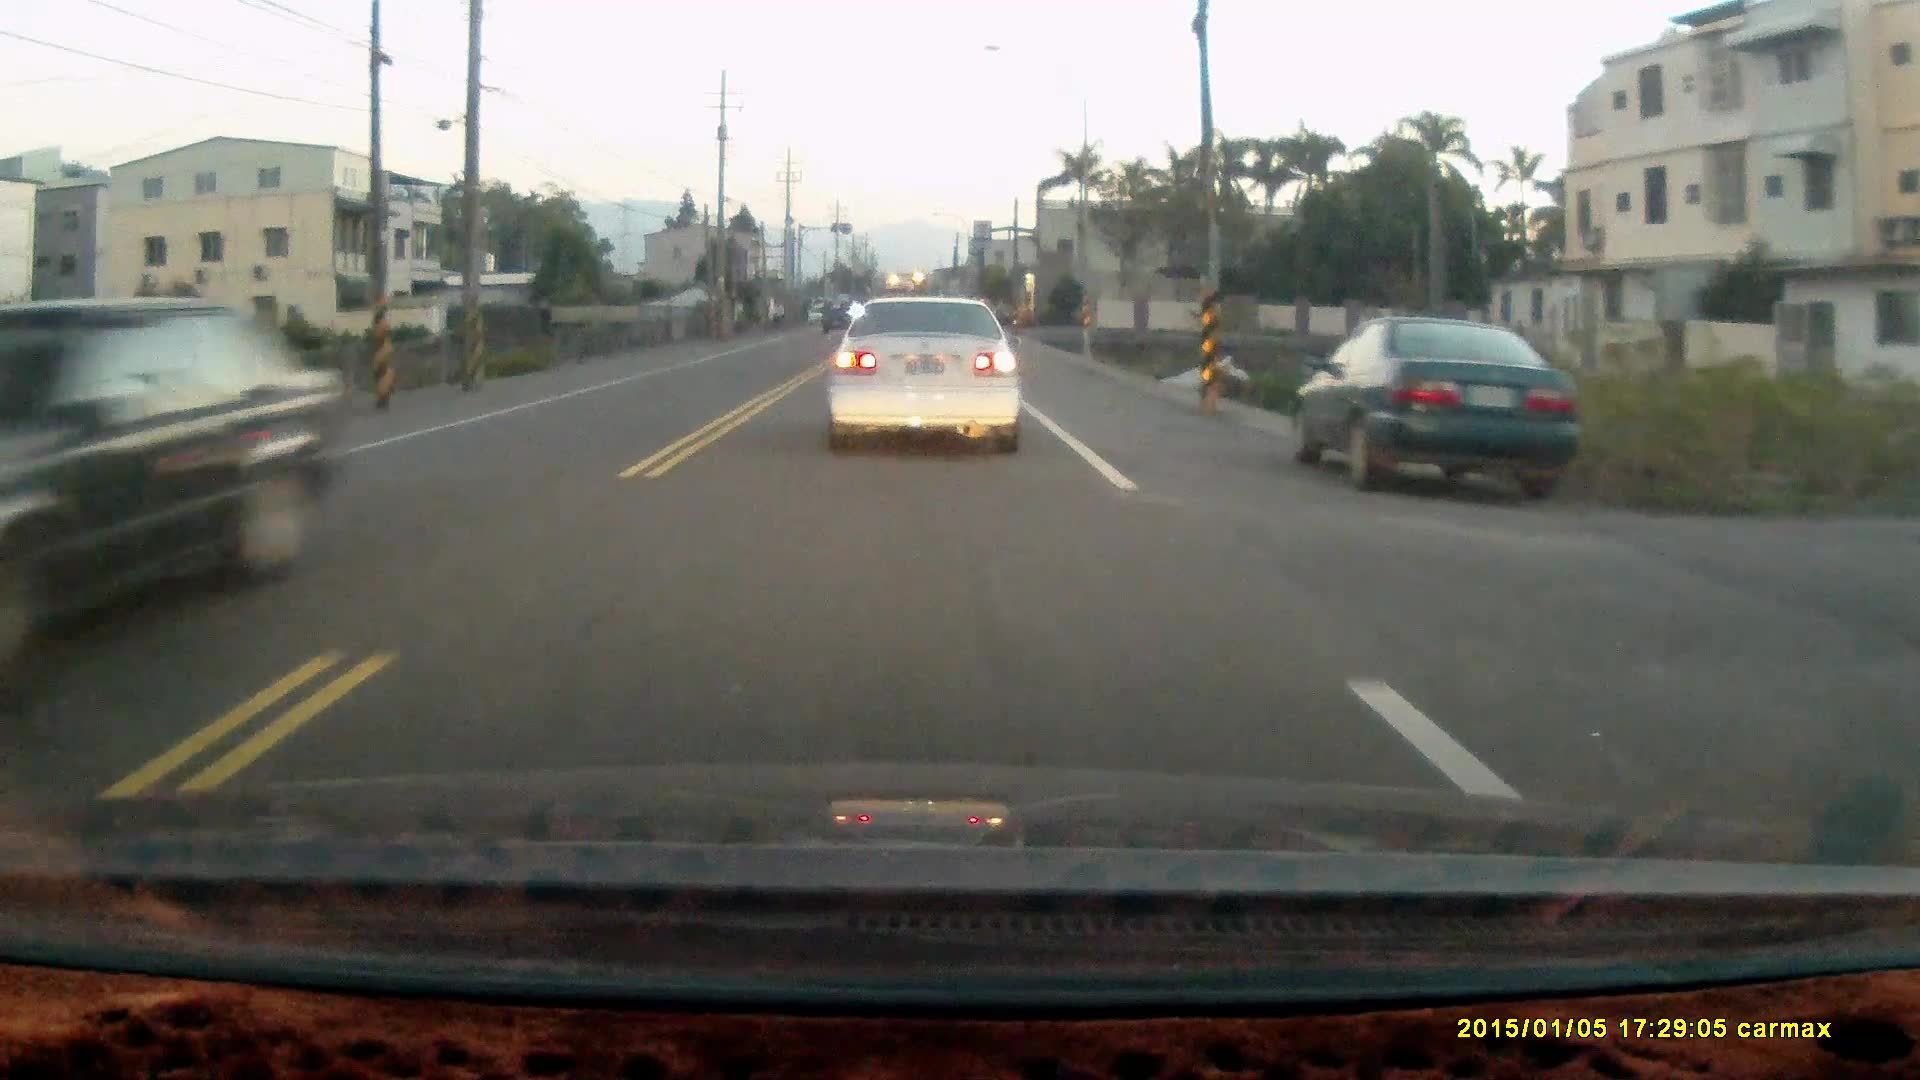vehicle: (1, 295, 356, 657), (1284, 319, 1575, 493), (825, 285, 1022, 442)
